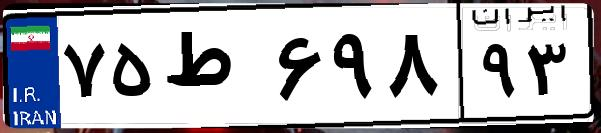3: (525, 38, 570, 115)
5: (110, 28, 158, 98)
6: (270, 28, 330, 110)
7: (57, 26, 110, 100)
8: (385, 28, 445, 110)
9: (330, 28, 385, 110), (475, 38, 525, 113)
ط: (158, 20, 270, 120)
